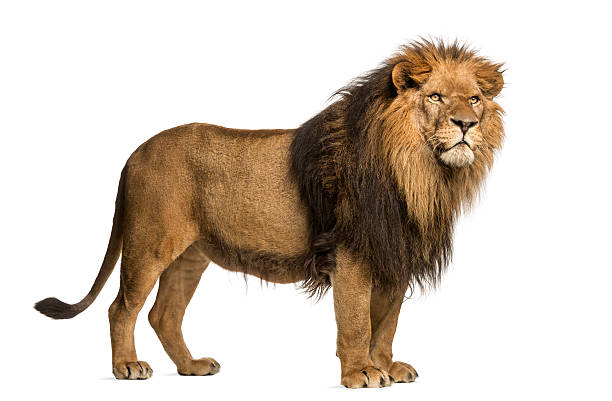lion: (293, 16, 537, 333)
